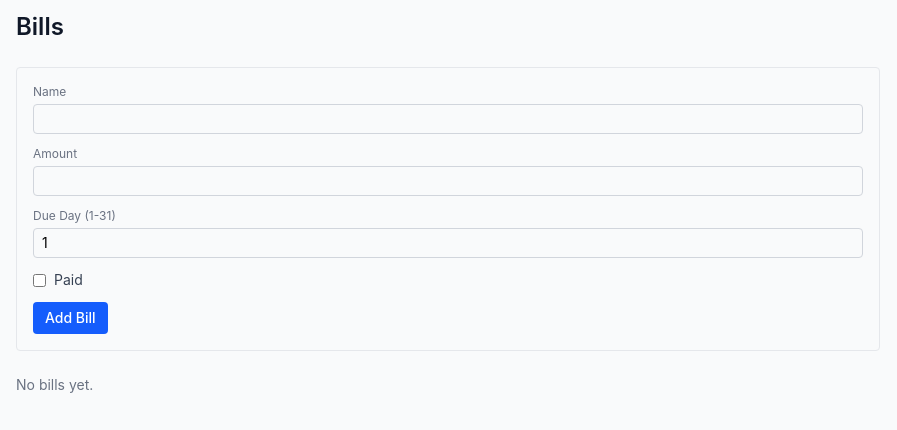
Test: BillsPage › submits the create form and refetches the list
Expected: the text "No bills yet." is shown, [16,376,93,393]
In the field labelled "Name": [448, 119] box [33,104,863,134], type "Electric"
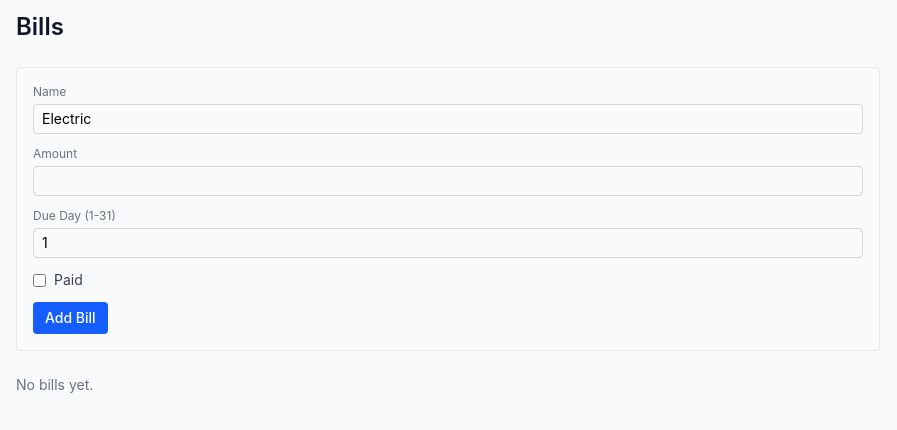
In the number field labelled "Amount": [448, 181] box [33,166,863,196], type "125"
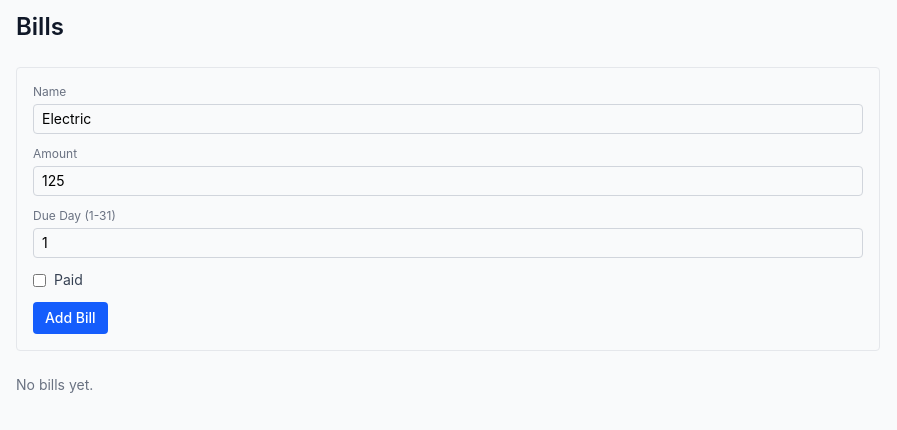
Replace the text in the number field labelled "Due Day (1-31)" with "15": [448, 243] box [33,228,863,258]
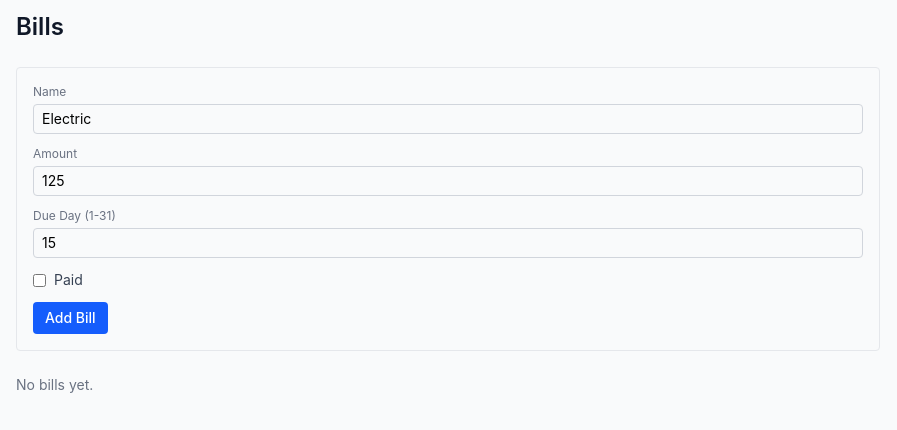
Click the button "Add Bill": [70, 318] box [33,302,108,334]
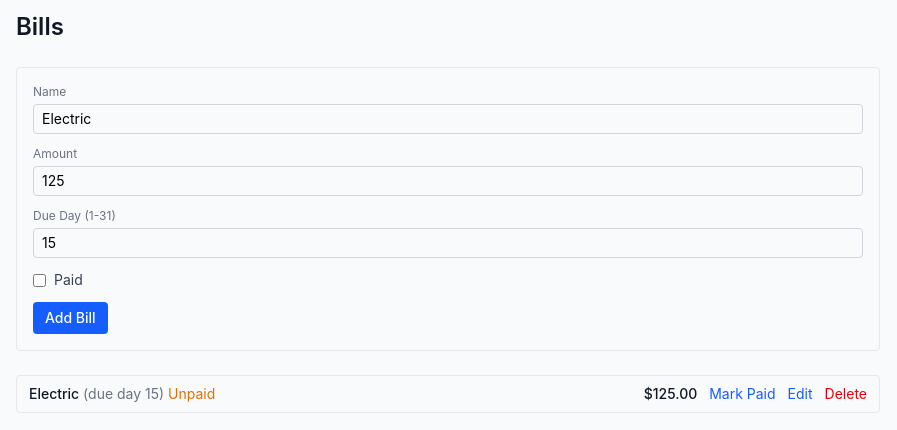
Now the text "Electric" is shown, box [29,385,79,402]
